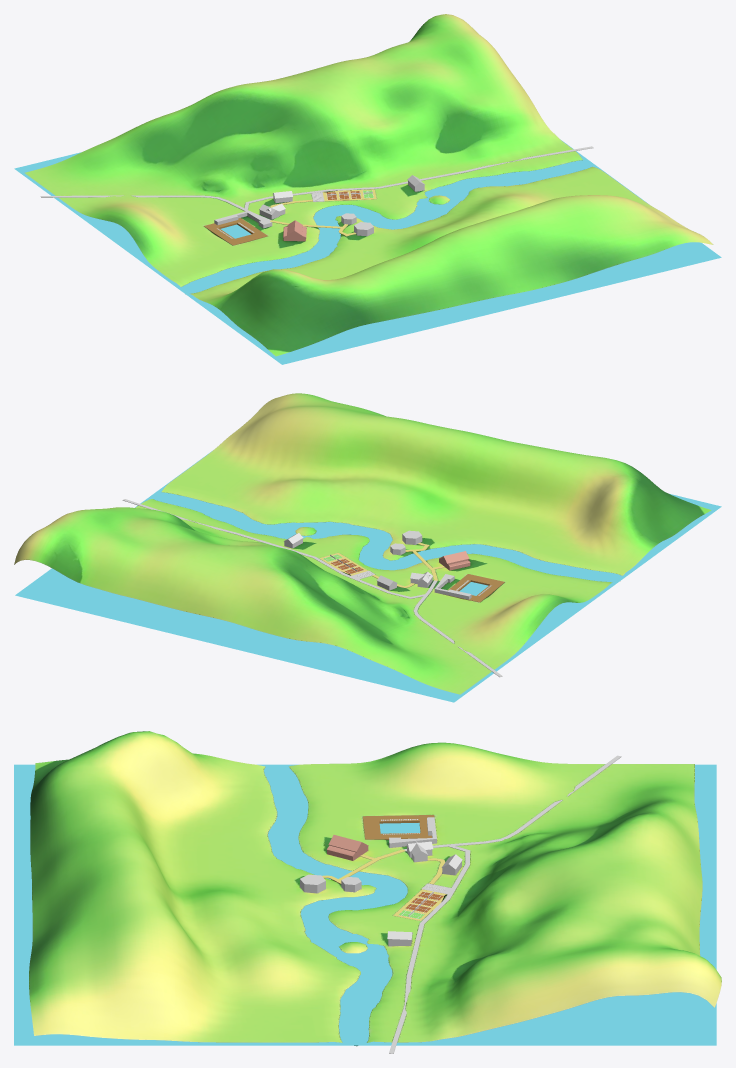
3 views of the same model, one above another, from view 1: azimuth 30°, elevation 25°; view 2: azimuth 150°, elevation 25°; view 3: azimuth 270°, elevation 25° (orthographic). The views are drawn at different scales.
Parts seen in each view (by area): view 1: Terrain_remesh, Water, Sweep.1, Pool, Sweep; view 2: Terrain_remesh, Water, Sweep.1, Pool; view 3: Terrain_remesh, Water, Sweep.1, Pool, Cube.7, Sweep, Route.
Boxes of the visible parts, x1,y1,x2,y2 form: Terrain_remesh: (24,14,713,356); Water: (14,139,721,364); Sweep.1: (244,146,593,209); Pool: (204,218,267,245); Sweep: (40,195,271,221); Terrain_remesh: (14,393,711,694); Water: (15,451,721,702); Sweep.1: (122,499,426,598); Pool: (443,574,504,602); Terrain_remesh: (29,731,721,1046); Water: (14,764,716,1045); Sweep.1: (389,845,470,1053); Pool: (363,815,434,839); Cube.7: (326,835,368,860); Sweep: (403,755,621,851); Route: (322,849,445,884).
Bounding box in the file's own units: 11.76 × 1.58 × 11.81.
Materials: 8 (1 with a texture image).
